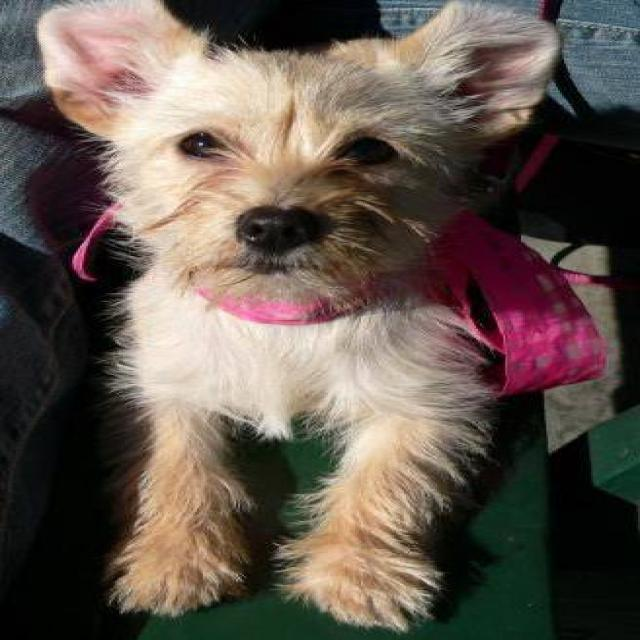dogs: (34, 0, 563, 638)
